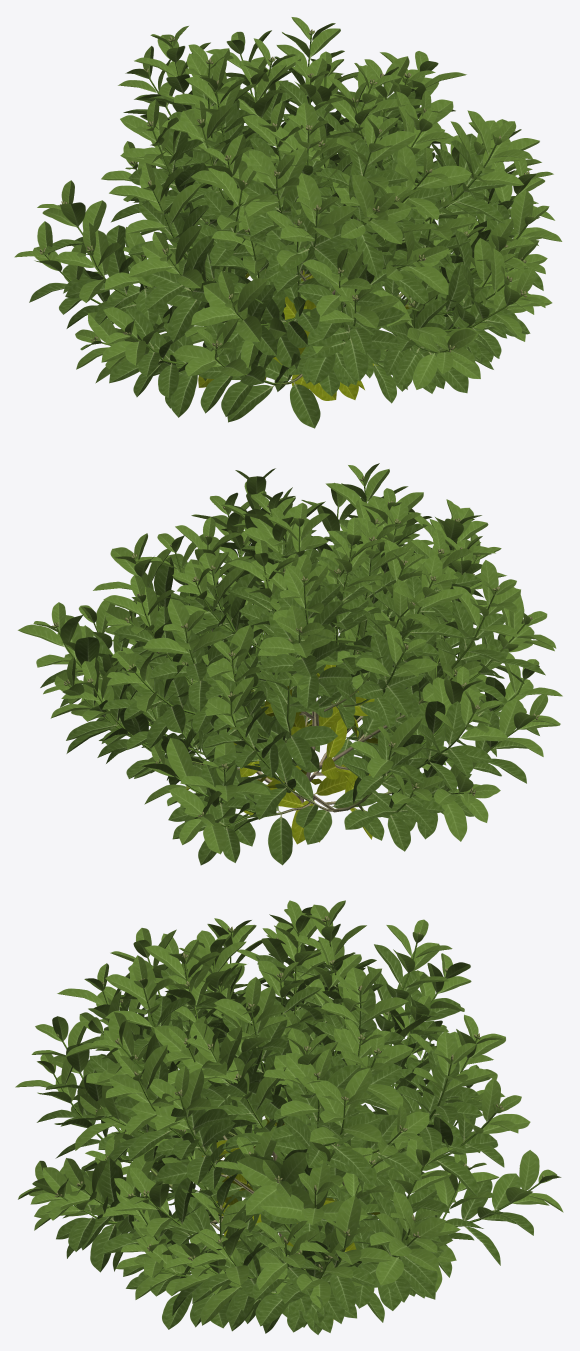
The model's file is massif_vert.glb.
3 views of the same model, one above another, from view 1: azimuth 30°, elevation 25°; view 2: azimuth 150°, elevation 25°; view 3: azimuth 270°, elevation 25° (orthographic). The views are drawn at different scales.
Parts seen in each view (by area): view 1: Ixora_chinensis_red_HD_Ixora leaf 01a_0, Ixora_chinensis_red_HD_Ixora leaf 01d_0, Ixora_chinensis_red_HD_Ixora twig_0, Ixora_chinensis_red_HD_Ixora bud_0, Ixora_chinensis_red_HD_Ixora leaf 01e_0, Ixora_chinensis_red_HD_Ixora branches_0; view 2: Ixora_chinensis_red_HD_Ixora leaf 01a_0, Ixora_chinensis_red_HD_Ixora leaf 01d_0, Ixora_chinensis_red_HD_Ixora leaf 01e_0, Ixora_chinensis_red_HD_Ixora twig_0, Ixora_chinensis_red_HD_Ixora branches_0, Ixora_chinensis_red_HD_Ixora bud_0; view 3: Ixora_chinensis_red_HD_Ixora leaf 01a_0, Ixora_chinensis_red_HD_Ixora leaf 01d_0, Ixora_chinensis_red_HD_Ixora twig_0, Ixora_chinensis_red_HD_Ixora bud_0, Ixora_chinensis_red_HD_Ixora branches_0, Ixora_chinensis_red_HD_Ixora leaf 01e_0, Ixora_chinensis_red_HD_Ixora leaf 01b_0.
Part boxes in pixels (<box>): Ixora_chinensis_red_HD_Ixora leaf 01a_0: <box>14,17,562,389</box>; Ixora_chinensis_red_HD_Ixora leaf 01d_0: <box>29,56,543,428</box>; Ixora_chinensis_red_HD_Ixora twig_0: <box>44,35,527,375</box>; Ixora_chinensis_red_HD_Ixora bud_0: <box>39,29,532,352</box>; Ixora_chinensis_red_HD_Ixora leaf 01e_0: <box>198,270,411,400</box>; Ixora_chinensis_red_HD_Ixora branches_0: <box>130,146,457,385</box>; Ixora_chinensis_red_HD_Ixora leaf 01a_0: <box>18,463,562,854</box>; Ixora_chinensis_red_HD_Ixora leaf 01d_0: <box>40,508,545,865</box>; Ixora_chinensis_red_HD_Ixora leaf 01e_0: <box>186,664,377,844</box>; Ixora_chinensis_red_HD_Ixora twig_0: <box>56,482,534,827</box>; Ixora_chinensis_red_HD_Ixora branches_0: <box>141,603,459,823</box>; Ixora_chinensis_red_HD_Ixora bud_0: <box>52,476,539,816</box>; Ixora_chinensis_red_HD_Ixora leaf 01a_0: <box>15,900,563,1325</box>; Ixora_chinensis_red_HD_Ixora leaf 01d_0: <box>36,944,533,1334</box>; Ixora_chinensis_red_HD_Ixora twig_0: <box>53,922,540,1294</box>; Ixora_chinensis_red_HD_Ixora bud_0: <box>52,916,547,1271</box>; Ixora_chinensis_red_HD_Ixora branches_0: <box>115,1018,457,1290</box>; Ixora_chinensis_red_HD_Ixora leaf 01e_0: <box>202,1117,380,1320</box>; Ixora_chinensis_red_HD_Ixora leaf 01b_0: <box>492,1173,520,1211</box>.
Size of the model in its own units: 1.28 by 0.8317 by 1.18.
7 materials, 7 textured.
